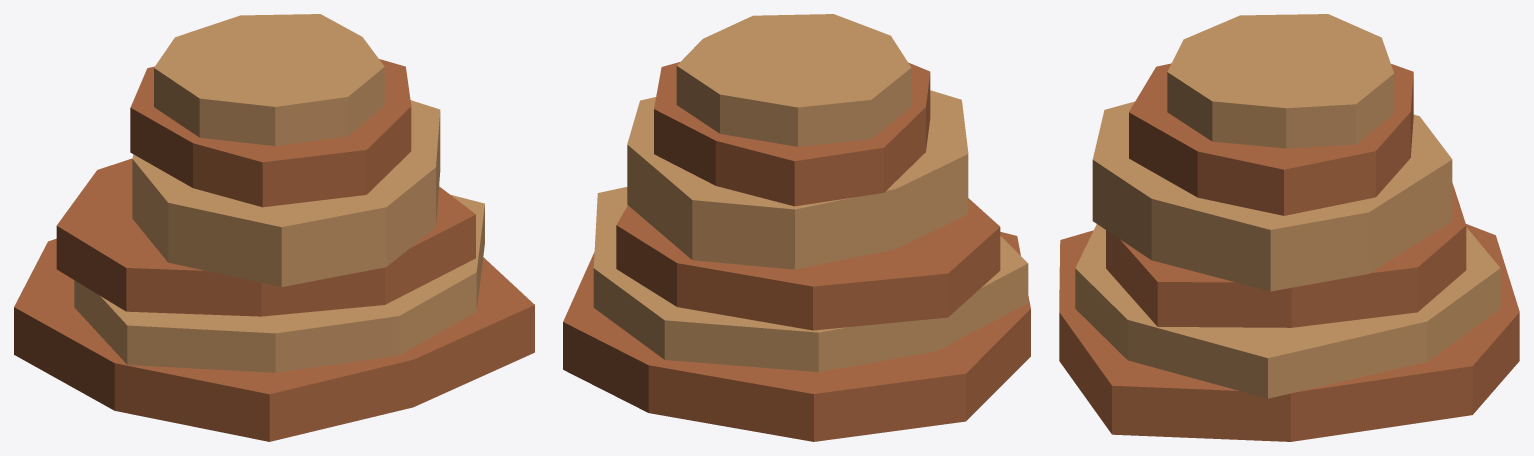
The model's file is DE_Rock_SandstoneMesa.obj.
3 views of the same model, side by side, from view 1: azimuth 30°, elevation 25°; view 2: azimuth 150°, elevation 25°; view 3: azimuth 270°, elevation 25° (orthographic). The views are drawn at different scales.
Parts seen in each view (by area): view 1: layer_0, layer_3, layer_5, layer_2, layer_1, layer_4; view 2: layer_0, layer_3, layer_2, layer_5, layer_1, layer_4; view 3: layer_0, layer_3, layer_1, layer_5, layer_4, layer_2.
Part boxes in pixels (x1=…): layer_0: x1=14, y1=238, x2=534, y2=441; layer_3: x1=132, y1=100, x2=440, y2=286; layer_5: x1=154, y1=14, x2=384, y2=146; layer_2: x1=56, y1=158, x2=475, y2=316; layer_1: x1=74, y1=194, x2=484, y2=372; layer_4: x1=130, y1=59, x2=411, y2=207; layer_0: x1=563, y1=232, x2=1030, y2=441; layer_3: x1=627, y1=90, x2=968, y2=269; layer_2: x1=616, y1=198, x2=1000, y2=330; layer_5: x1=676, y1=14, x2=911, y2=146; layer_1: x1=593, y1=187, x2=1028, y2=372; layer_4: x1=654, y1=62, x2=930, y2=206; layer_0: x1=1059, y1=224, x2=1519, y2=441; layer_3: x1=1092, y1=101, x2=1452, y2=291; layer_1: x1=1075, y1=224, x2=1500, y2=398; layer_5: x1=1167, y1=14, x2=1394, y2=148; layer_4: x1=1129, y1=63, x2=1413, y2=215; layer_2: x1=1106, y1=183, x2=1466, y2=327.
Bounding box in the file's own units: 10.29 × 6.45 × 9.54.
